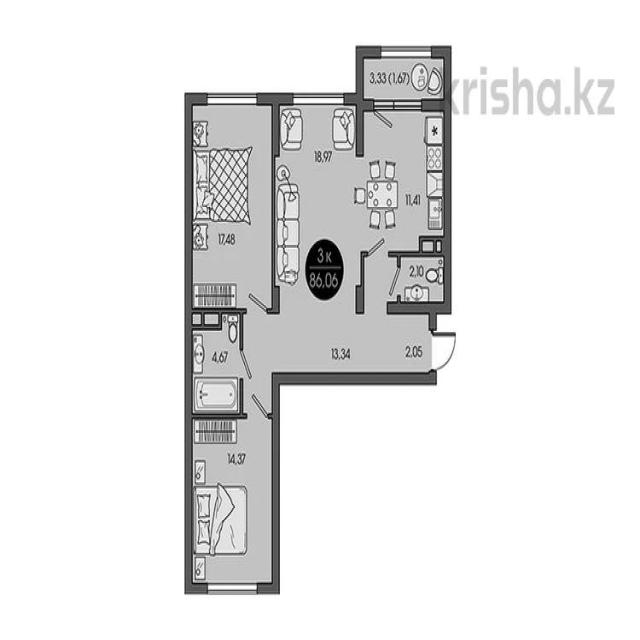balcony: (360, 50, 446, 104)
bathroom: (187, 313, 241, 411), (399, 256, 448, 310)
hallway: (242, 311, 434, 376)
kitchen: (365, 110, 444, 250)
living_room: (186, 101, 273, 307), (277, 99, 353, 304), (190, 418, 271, 588)
